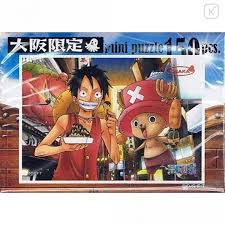chopper: (115, 80, 178, 141)
luffy: (67, 65, 113, 116)
